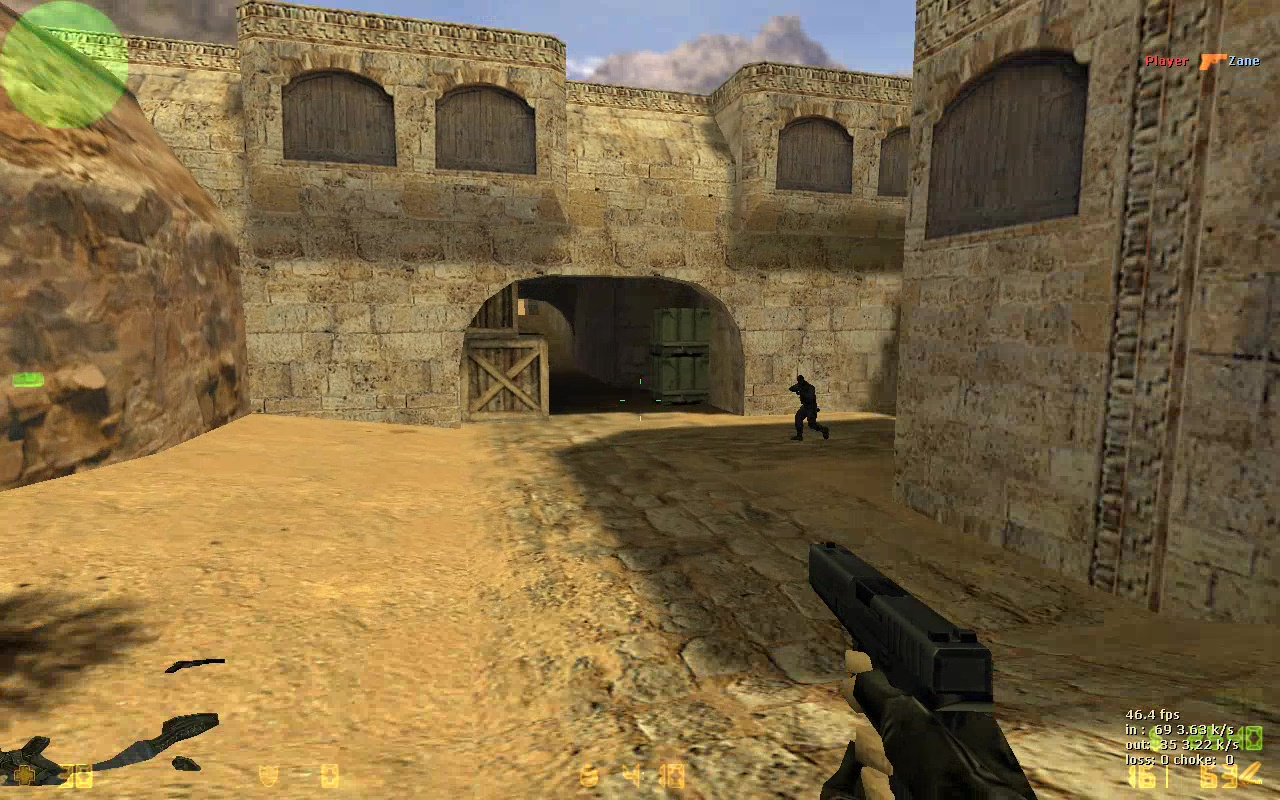ct: (786, 374, 831, 440)
